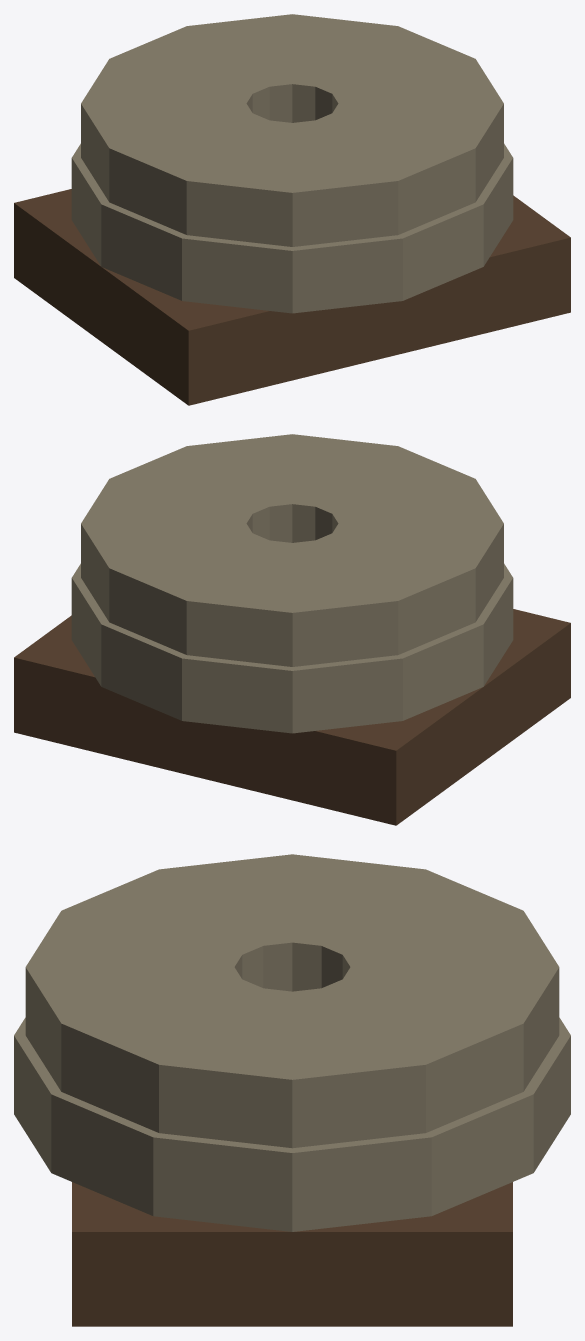
The model's file is millstones.glb.
The picture shows the model from 3 angles, top to bottom: view 1: azimuth 30°, elevation 25°; view 2: azimuth 150°, elevation 25°; view 3: azimuth 270°, elevation 25°; orthographic projection. The views are drawn at different scales.
Visible parts, largest first — view 1: Millstones; view 2: Millstones; view 3: Millstones.
Boxes of the visible parts, x1=… form: Millstones: x1=14, y1=14, x2=570, y2=405; Millstones: x1=14, y1=434, x2=570, y2=825; Millstones: x1=14, y1=854, x2=570, y2=1326.
Bounding box in the file's own units: 0.96 × 0.46 × 0.96.
